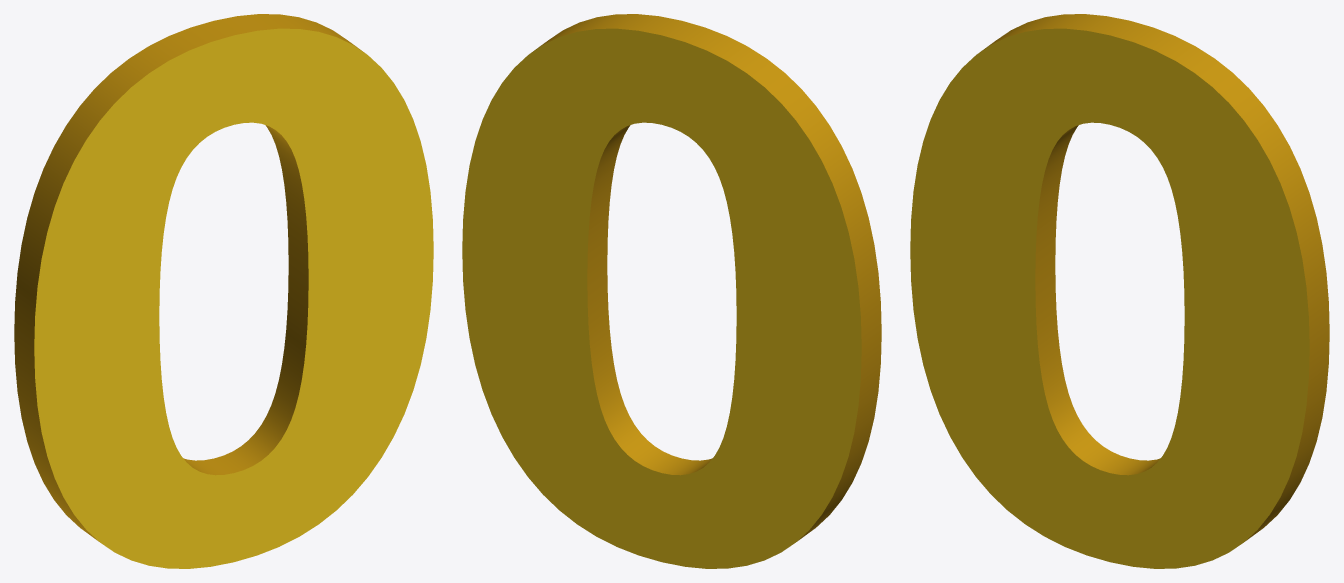
Rendered from Digito0.obj.
3 views of the same model, side by side, from view 1: azimuth 30°, elevation 25°; view 2: azimuth 150°, elevation 25°; view 3: azimuth 330°, elevation 25° (orthographic).
Visible parts, largest first — view 1: Digito0; view 2: Digito0; view 3: Digito0.
Boxes of the visible parts, x1,y1,x2,y2 form: Digito0: (14, 14, 433, 568); Digito0: (462, 14, 881, 568); Digito0: (910, 14, 1329, 568).
Size of the model in its own units: 0.461 by 0.581 by 0.04.
1 material, 1 textured.
